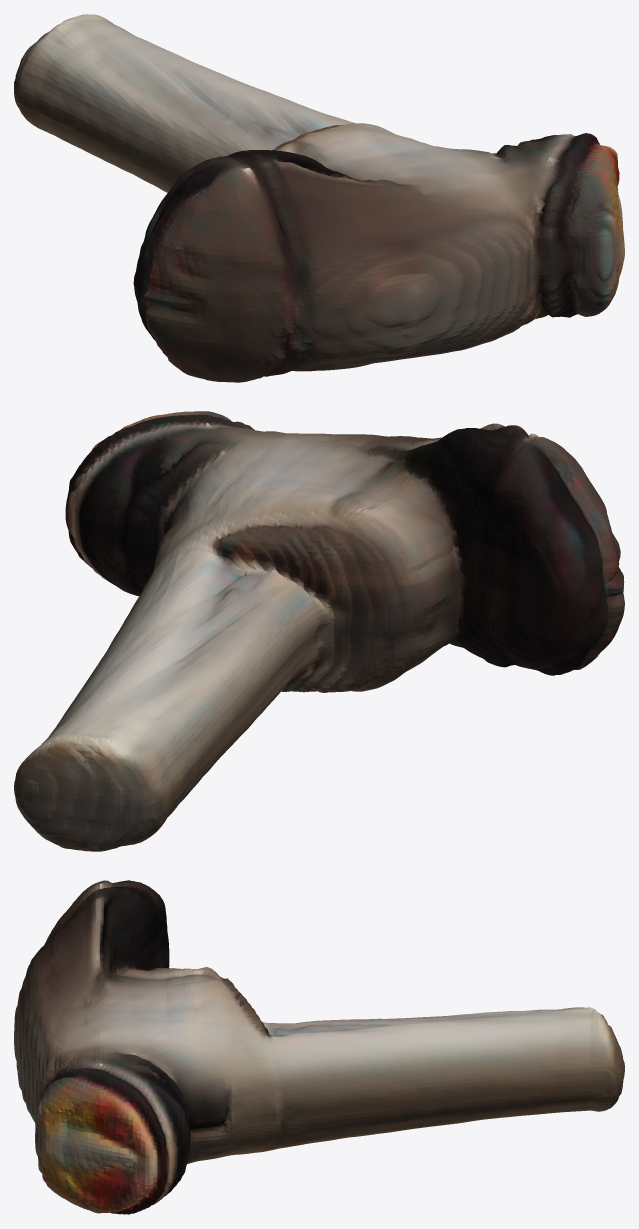
3 views of the same model, one above another, from view 1: azimuth 30°, elevation 25°; view 2: azimuth 150°, elevation 25°; view 3: azimuth 270°, elevation 25° (orthographic). The views are drawn at different scales.
Size of the model in its own units: 0.7944 by 0.3515 by 1.01.
